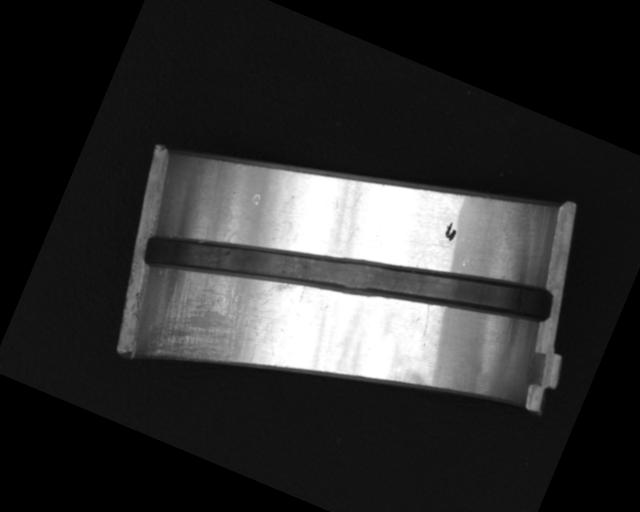blot: (440, 218, 462, 243)
bruise: (250, 192, 264, 207)
gap: (141, 140, 558, 412)
nick: (413, 302, 442, 348)
scratch: (138, 239, 297, 398)
